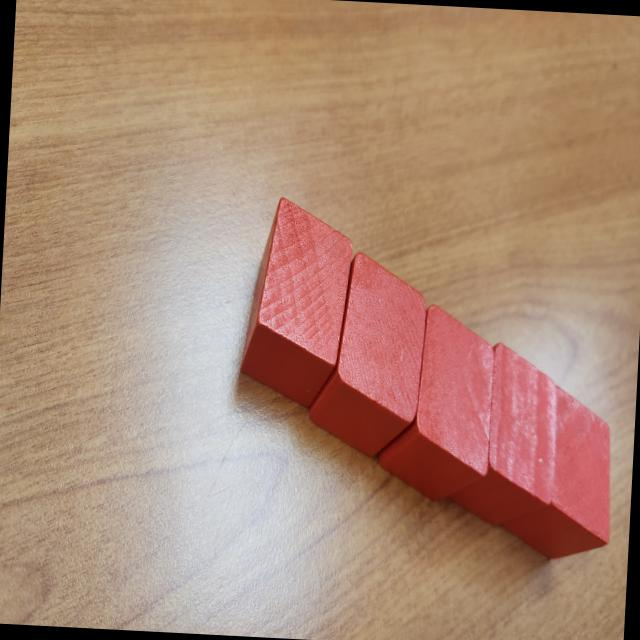red: (306, 250, 430, 462), (238, 196, 356, 412), (377, 300, 498, 507), (444, 340, 560, 532), (499, 381, 618, 564)
